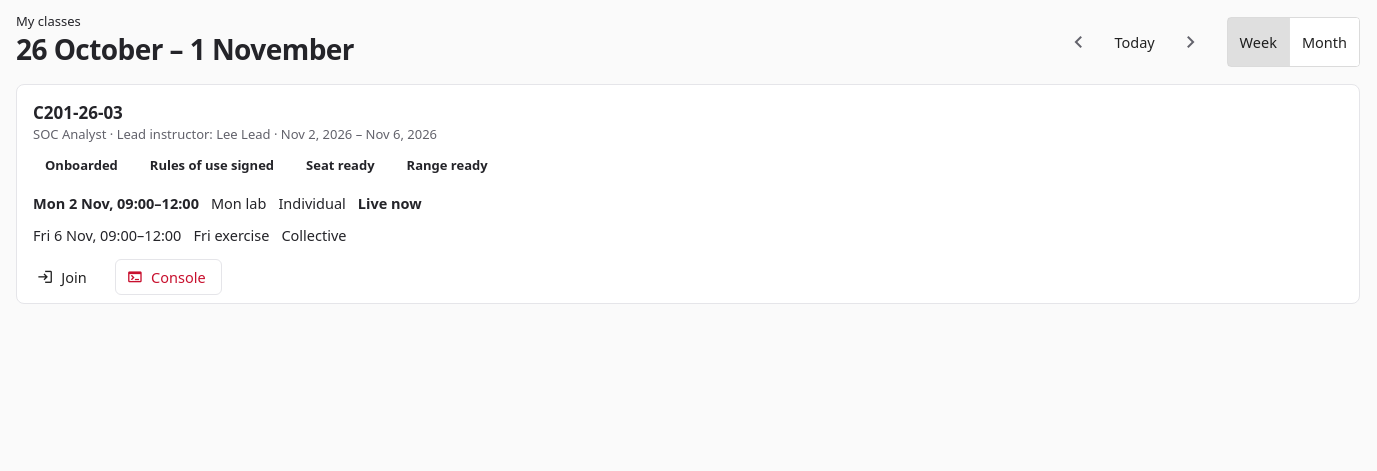
MyClassesComponent › Join is live when the range is ready, and opens the Student's range accounts
The width and height of the screenshot is (1377, 471).
Step 1. Click the button with class "join" → click(64, 277), box [25,259,103,295]
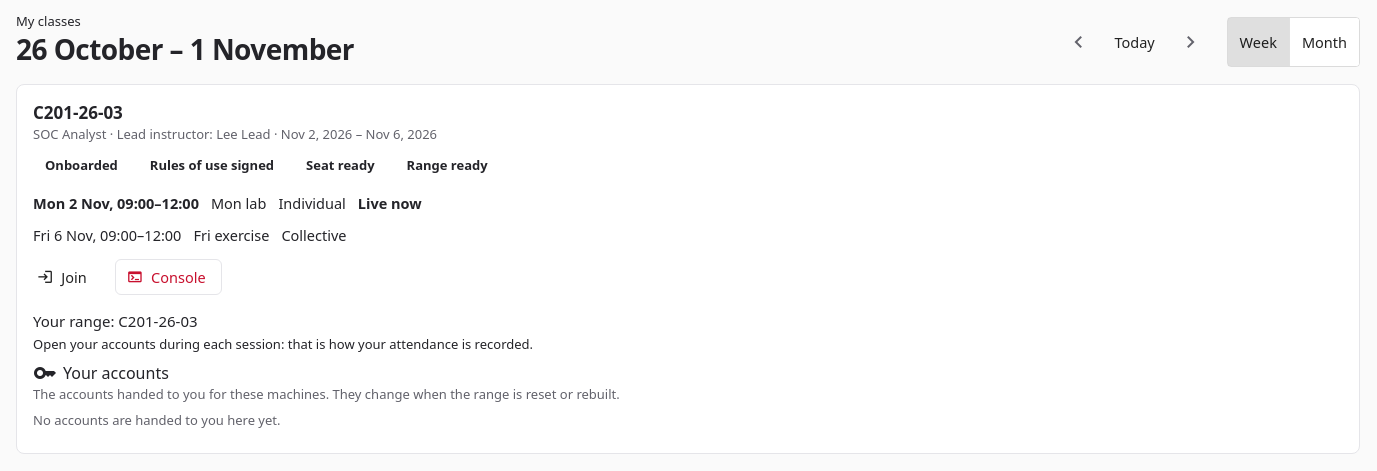
expect the element that starts with "Your accounts" is shown: met, box [33,361,620,429]
expect the text "Your range" is shown: met, box [33,311,198,331]
